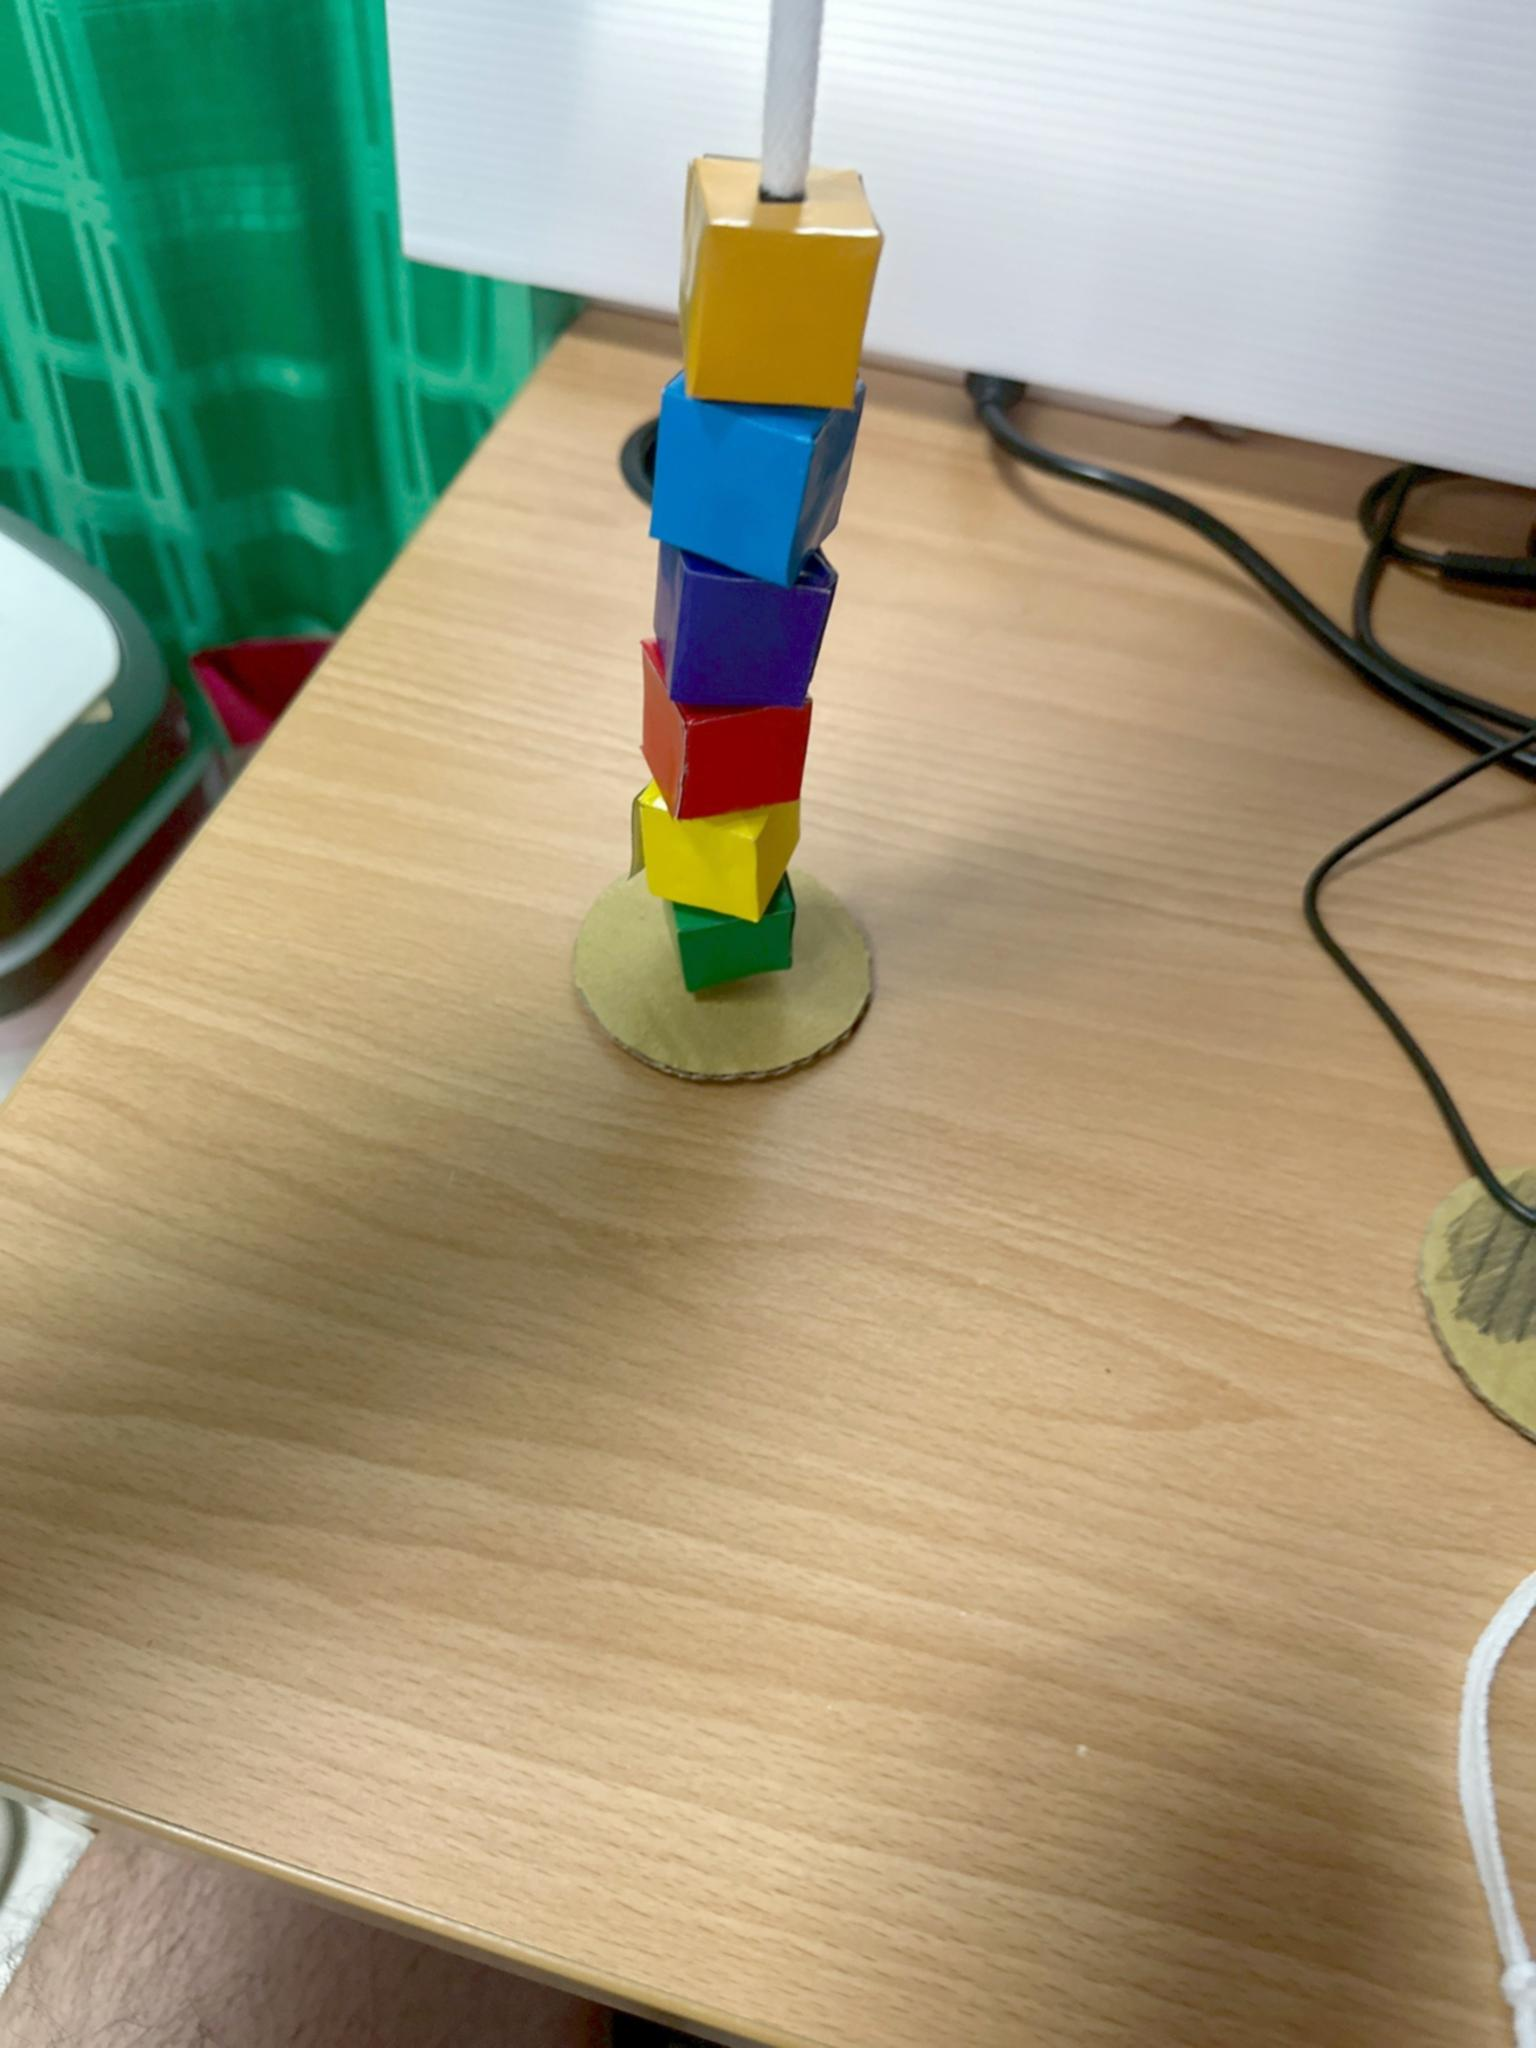base: (573, 871, 873, 1080)
